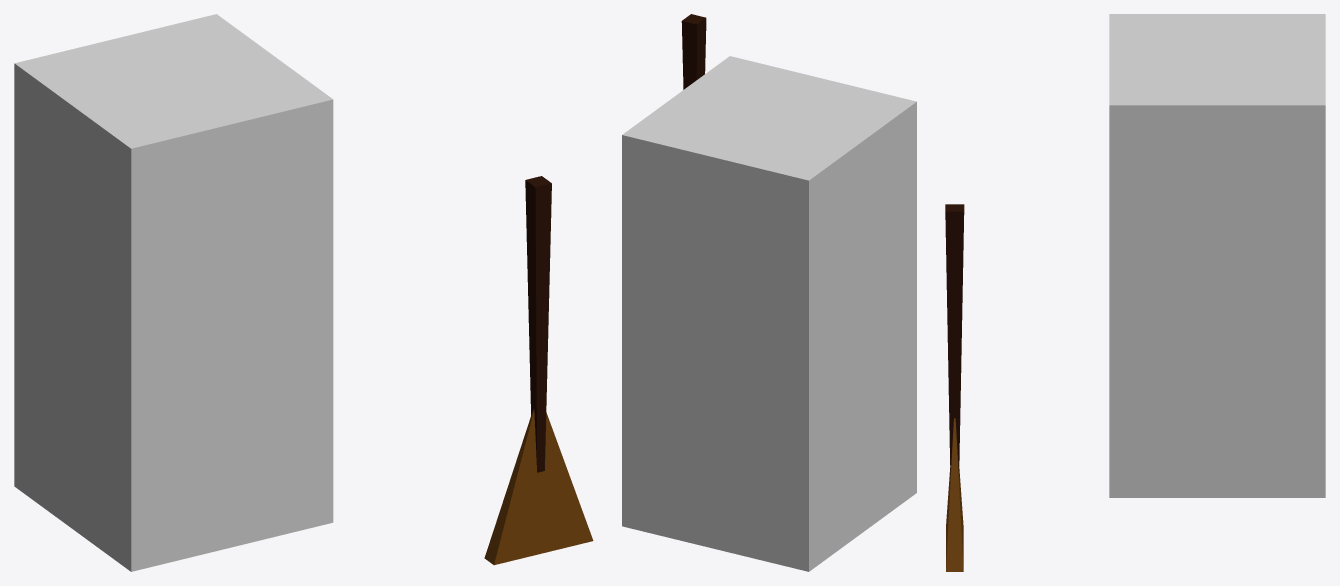
Rendered from broom fbx.fbx.
3 views of the same model, side by side, from view 1: azimuth 30°, elevation 25°; view 2: azimuth 150°, elevation 25°; view 3: azimuth 270°, elevation 25° (orthographic). The views are drawn at different scales.
Visible parts, largest first — view 1: Box001, Box002; view 2: Box001, Box002; view 3: Box001, Box002.
Part boxes in pixels (<box>): Box001: <box>14,14,333,571</box>; Box002: <box>484,176,593,565</box>; Box001: <box>622,56,916,571</box>; Box002: <box>681,14,706,89</box>; Box001: <box>1109,14,1325,497</box>; Box002: <box>945,204,964,571</box>.
Size of the model in its own units: 185 by 200 by 176.
